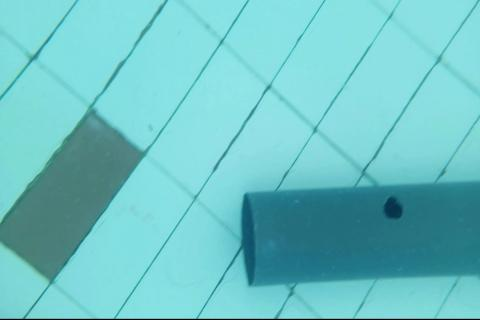kebocoran: (382, 194, 405, 221)
